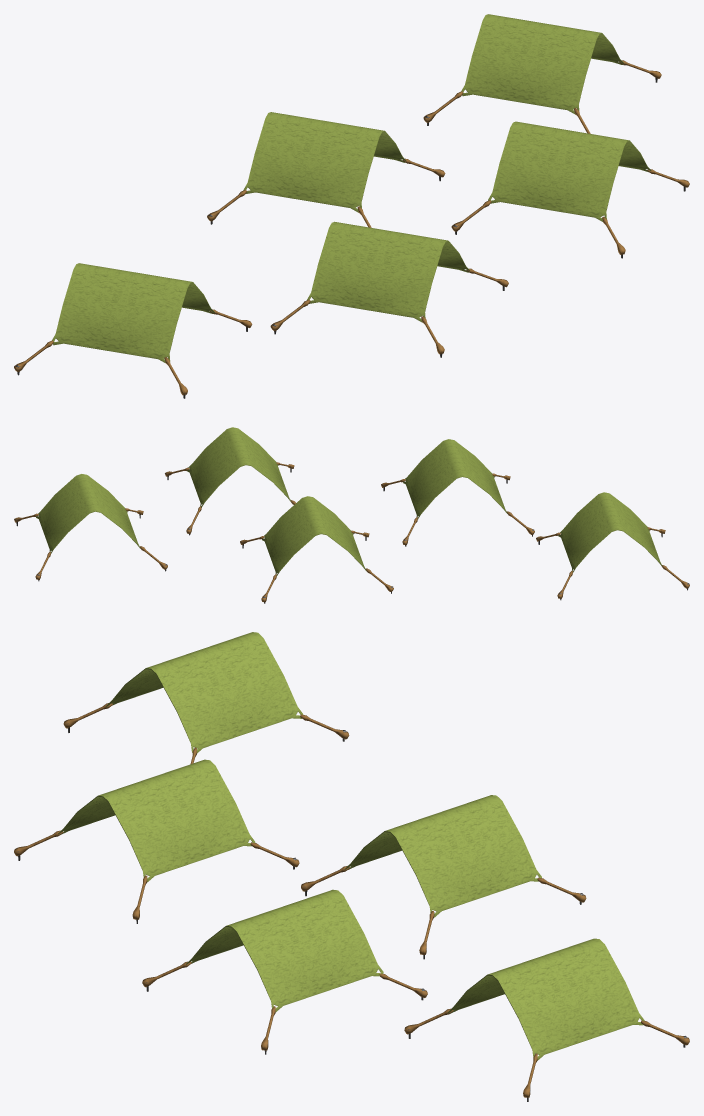
File: Tarps_Green.obj
3 renders of one model, top to bottom at view 1: azimuth 30°, elevation 25°; view 2: azimuth 150°, elevation 25°; view 3: azimuth 270°, elevation 25°, orthographic. The views are drawn at different scales.
Visible parts, largest first — view 1: Tarp_Tan.002_Material.208, Tarp_Tan.003_Material.208, Tarp_Tan_Material.208, Tarp_Tan.001_Material.208, Tarp_Tan.004_Material.208, Tent_Stakes.002_Material.148, Tent_Stakes.003_Material.148, Tent_Stakes.004_Material.148; view 2: Tarp_Tan.002_Material.208, Tarp_Tan.004_Material.208, Tarp_Tan.001_Material.208, Tarp_Tan.003_Material.208, Tarp_Tan_Material.208, Tent_Stakes_Material.148, Tent_Stakes.004_Material.148, Tent_Stakes.001_Material.148, Tent_Stakes.003_Material.148; view 3: Tarp_Tan.002_Material.208, Tarp_Tan.001_Material.208, Tarp_Tan_Material.208, Tarp_Tan.003_Material.208, Tarp_Tan.004_Material.208, Tent_Stakes.001_Material.148, Tent_Stakes.002_Material.148, Tent_Stakes_Material.148, Tent_Stakes.003_Material.148.
Boxes of the visible parts, box(x1,y1,x2,y2) form: Tarp_Tan.002_Material.208: box(488, 121, 651, 221); Tarp_Tan.003_Material.208: box(307, 221, 469, 322); Tarp_Tan_Material.208: box(461, 14, 624, 114); Tarp_Tan.001_Material.208: box(243, 112, 406, 212); Tarp_Tan.004_Material.208: box(52, 263, 214, 362); Tent_Stakes.002_Material.148: box(451, 169, 689, 258); Tent_Stakes.003_Material.148: box(270, 268, 508, 357); Tent_Stakes.004_Material.148: box(14, 309, 252, 398); Tarp_Tan.002_Material.208: box(187, 427, 291, 507); Tarp_Tan.004_Material.208: box(558, 492, 662, 572); Tarp_Tan.001_Material.208: box(262, 496, 366, 576); Tarp_Tan.003_Material.208: box(403, 439, 507, 519); Tarp_Tan_Material.208: box(36, 474, 140, 553); Tent_Stakes_Material.148: box(14, 508, 167, 581); Tent_Stakes.004_Material.148: box(536, 527, 689, 600); Tent_Stakes.001_Material.148: box(240, 530, 393, 603); Tent_Stakes.003_Material.148: box(381, 473, 534, 546); Tarp_Tan.002_Material.208: box(186, 889, 383, 1011); Tarp_Tan.001_Material.208: box(344, 795, 541, 917); Tarp_Tan_Material.208: box(447, 938, 644, 1060); Tarp_Tan.003_Material.208: box(58, 759, 255, 882); Tarp_Tan.004_Material.208: box(106, 632, 303, 753); Tent_Stakes.001_Material.148: box(301, 866, 586, 959); Tent_Stakes.002_Material.148: box(142, 961, 427, 1054); Tent_Stakes_Material.148: box(404, 1008, 689, 1101); Tent_Stakes.003_Material.148: box(14, 830, 299, 923).
Size of the model in its own units: 14.81 by 1.42 by 9.89.
